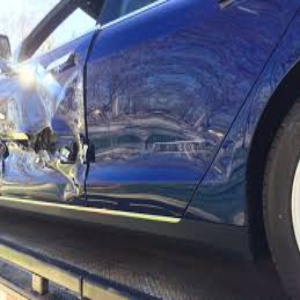door: (21, 86, 209, 186)
